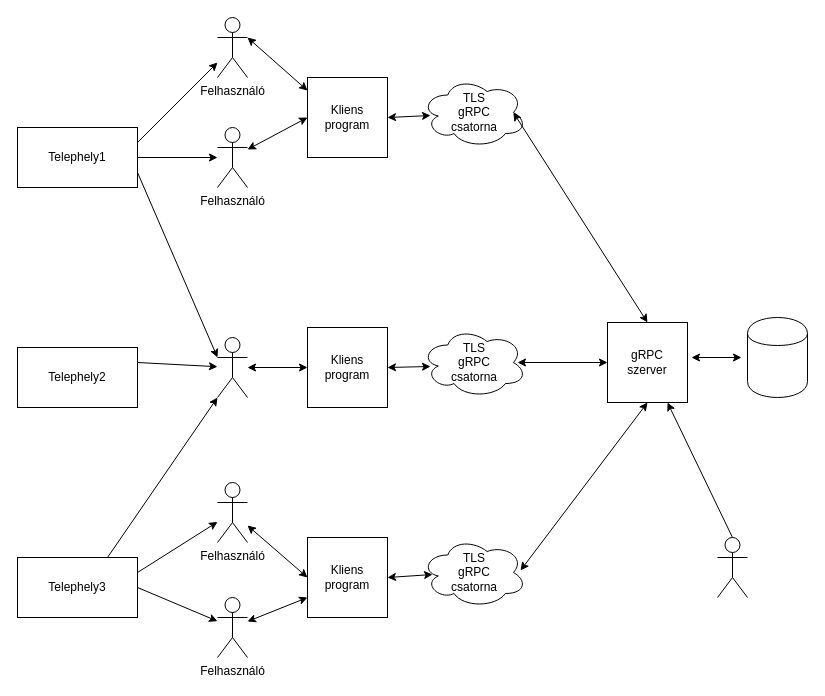
This 825x696 diagram has some shape labels left out. The box of each missing label's shape, as (x1, y1, x2, y2) in pixels:
Admin: (216, 336, 248, 398)
MySQL Adatbázis Szerver: (746, 316, 808, 398)
Rendszergazda: (716, 536, 748, 598)
